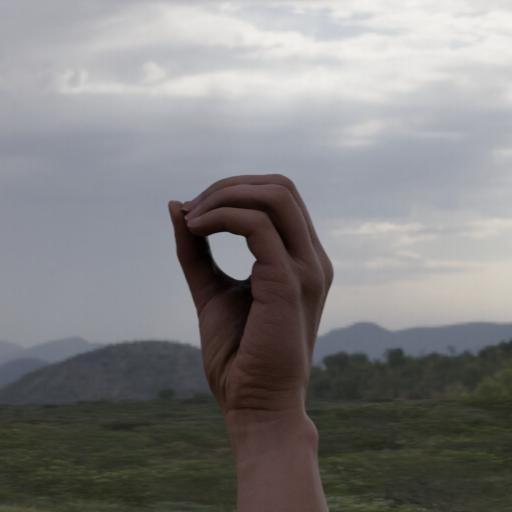O: (161, 146, 340, 454)
